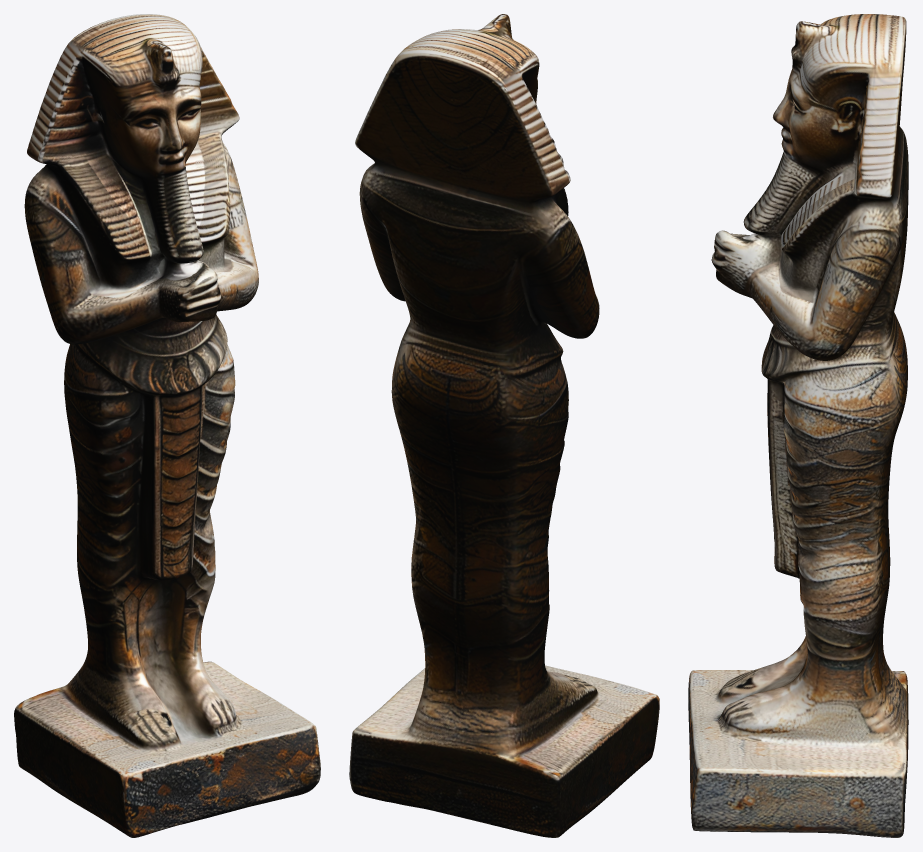
Rendered from egyptian_miniature.glb.
3 renders of one model, left to right at view 1: azimuth 30°, elevation 25°; view 2: azimuth 150°, elevation 25°; view 3: azimuth 270°, elevation 25°, orthographic. The views are drawn at different scales.
Parts seen in each view (by area): view 1: mvadapter_node_texture_mesh_9a6485602a899665.glb_0; view 2: mvadapter_node_texture_mesh_9a6485602a899665.glb_0; view 3: mvadapter_node_texture_mesh_9a6485602a899665.glb_0.
Boxes of the visible parts, x1,y1,x2,y2 form: mvadapter_node_texture_mesh_9a6485602a899665.glb_0: (14, 14, 320, 837); mvadapter_node_texture_mesh_9a6485602a899665.glb_0: (349, 14, 659, 837); mvadapter_node_texture_mesh_9a6485602a899665.glb_0: (688, 14, 908, 837).
Size of the model in its own units: 0.5496 by 1.87 by 0.4879.
Materials: 1 (1 with a texture image).
